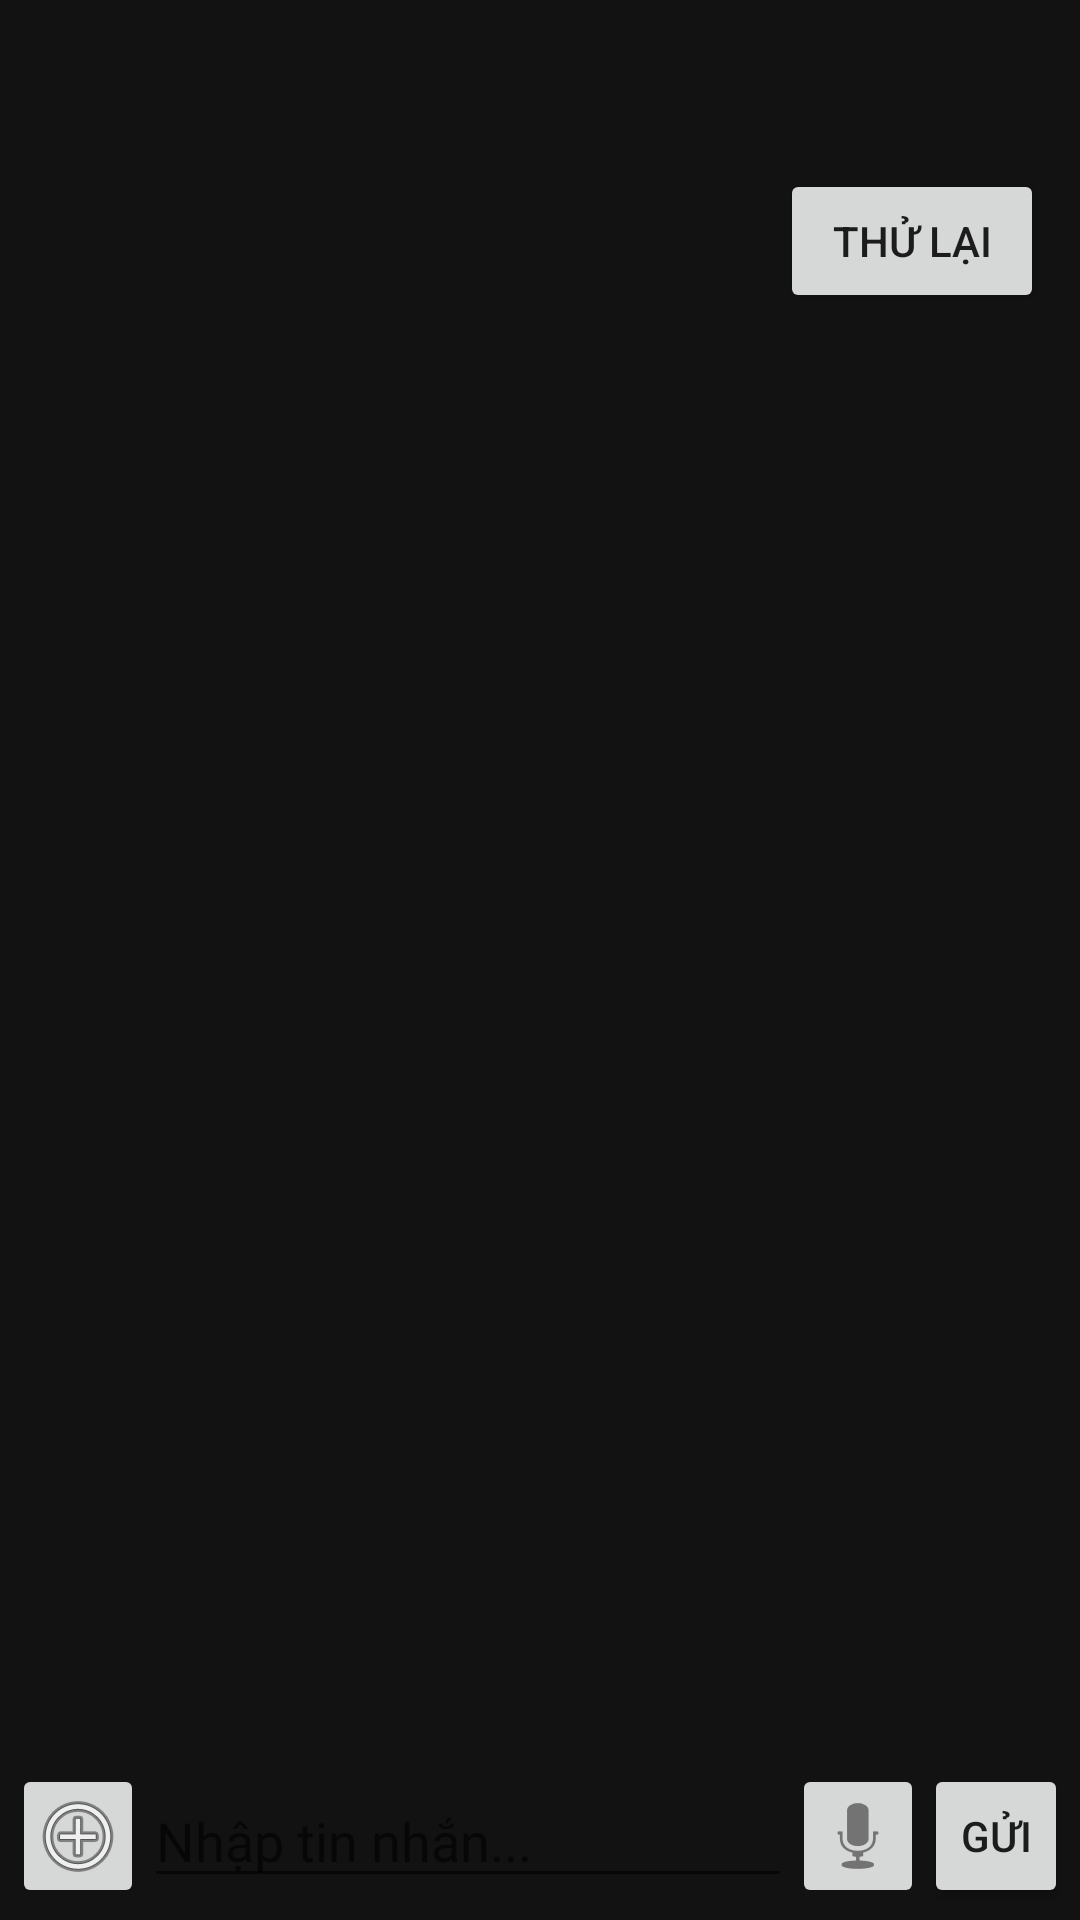

Screen size 1080 x 1920. Icon name, then its center in pixels as (x=x, y=y):
Giữ để ghi âm: (x=858, y=1836)
Đính kèm: (x=78, y=1836)
